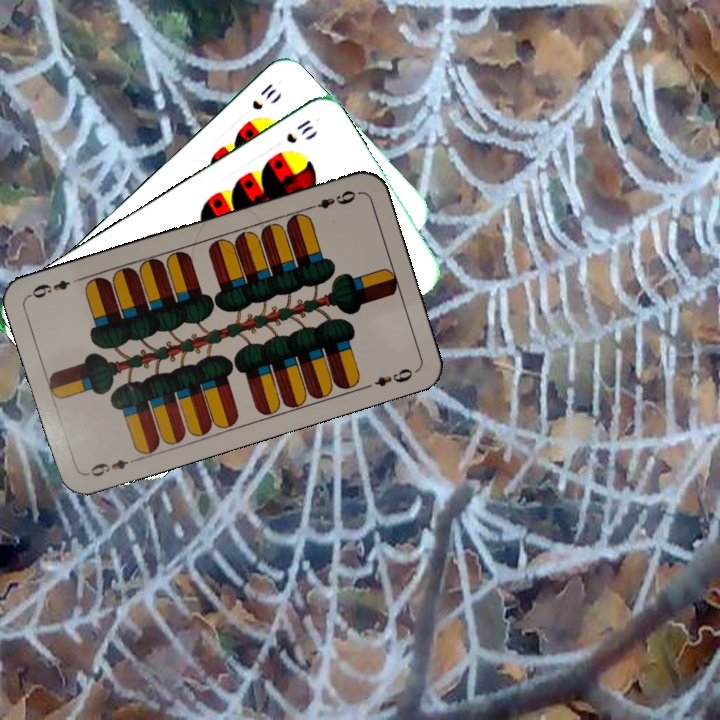E9: (303, 186, 359, 213), (83, 454, 141, 480)
S10: (248, 79, 280, 113), (282, 115, 316, 146)
